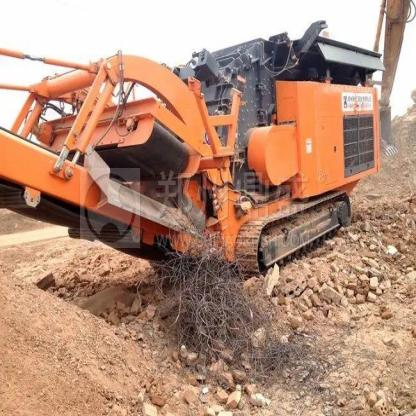rebar: (135, 188, 334, 394)
